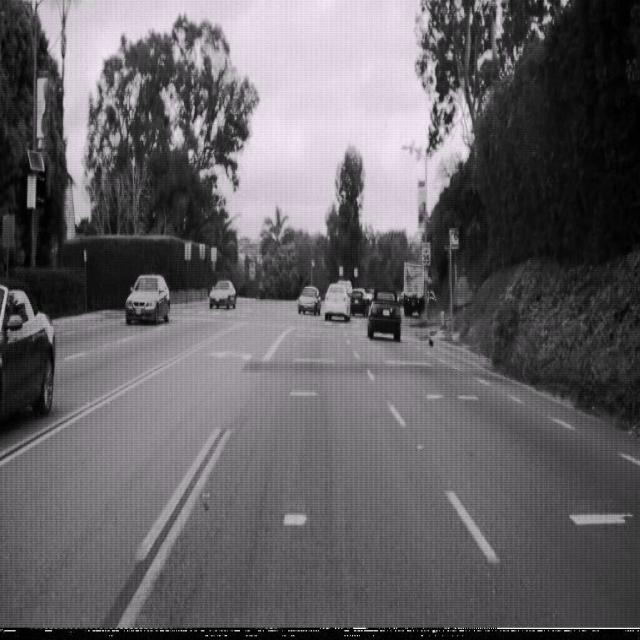speedLimit35: (420, 240, 431, 266)
